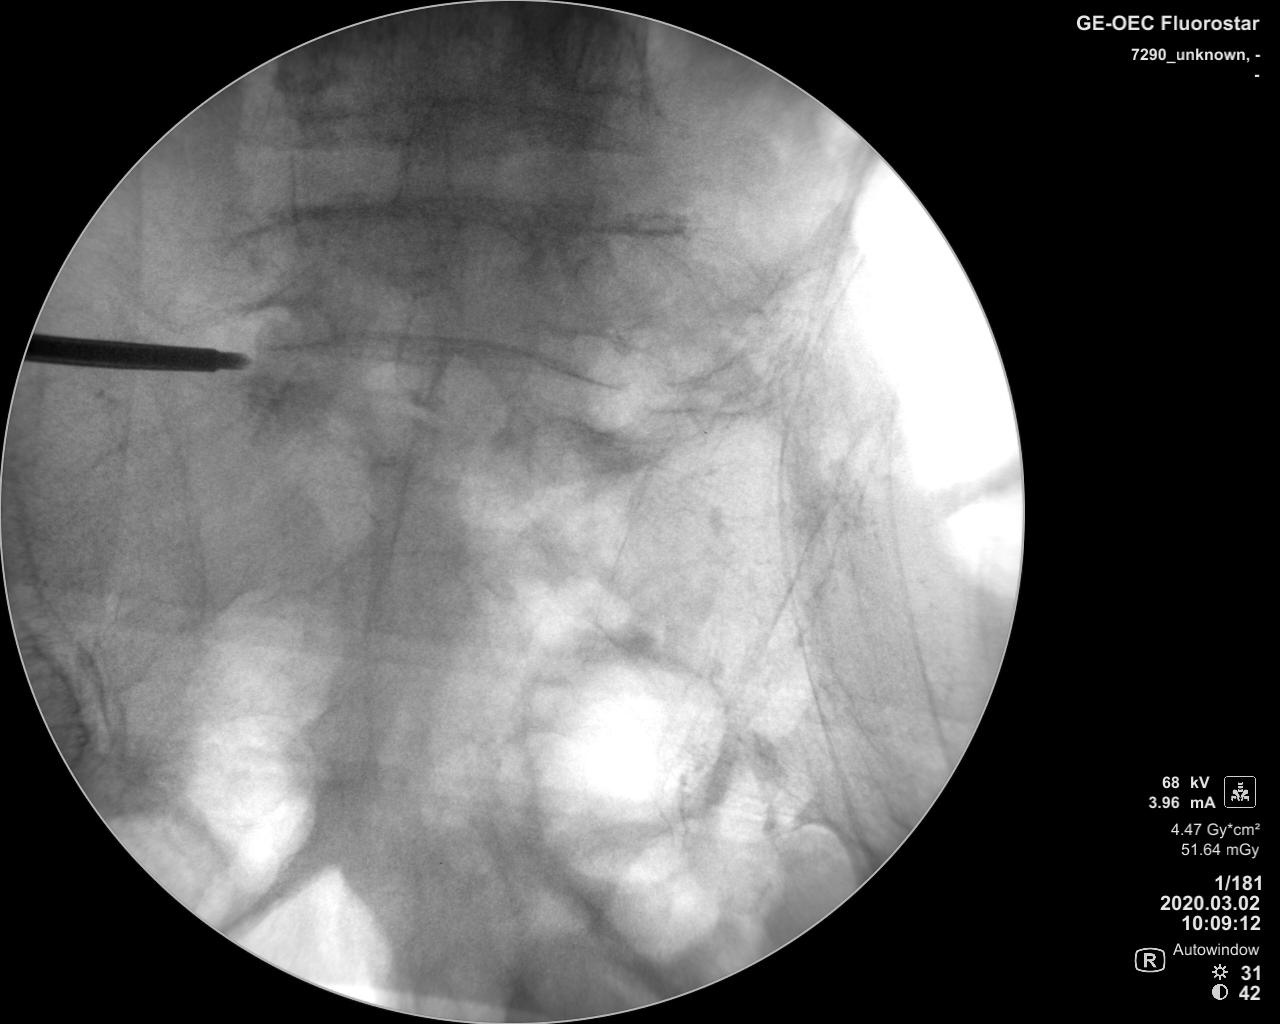eyes: (247, 290, 338, 385)
line: (259, 191, 688, 249), (267, 338, 629, 396), (271, 101, 658, 139)
nose: (386, 88, 455, 269), (393, 290, 442, 410)
